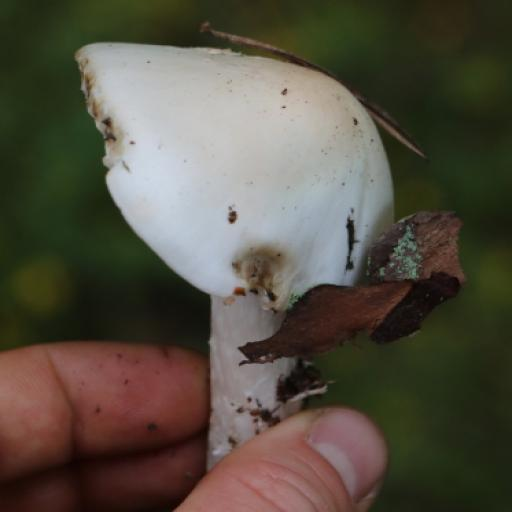mushroom: (56, 0, 467, 467)
